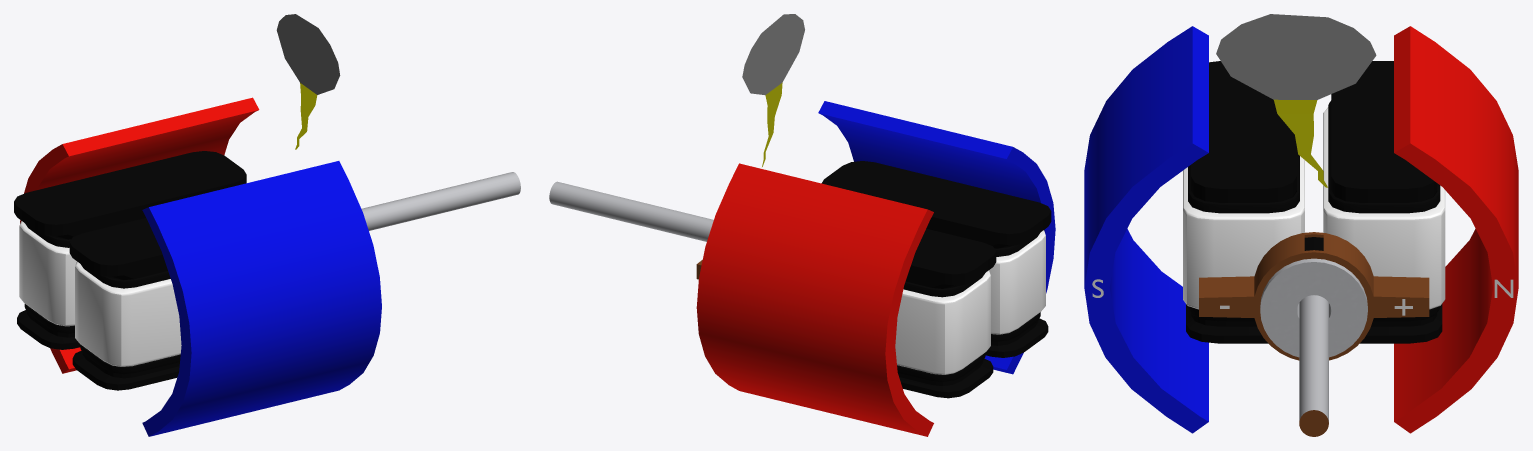
The model's file is brushMotor.glb.
3 renders of one model, left to right at view 1: azimuth 30°, elevation 25°; view 2: azimuth 150°, elevation 25°; view 3: azimuth 270°, elevation 25°, orthographic. The views are drawn at different scales.
Visible parts, largest first — view 1: Cube.027, Cube.028, Plane, Cylinder.025; view 2: Cube.027, Cube.028, Cylinder.025, Plane; view 3: Cube.027, Cube.028, Cylinder.025, Plane.
Part boxes in pixels (x1,y1,x2,y2): Cube.027: (20, 97, 381, 436); Cube.028: (14, 151, 246, 390); Plane: (276, 14, 340, 149); Cylinder.025: (361, 172, 520, 230); Cube.027: (696, 101, 1055, 436); Cube.028: (821, 161, 1051, 398); Cylinder.025: (549, 181, 713, 279); Plane: (742, 14, 804, 166); Cube.027: (1084, 26, 1518, 433); Cube.028: (1183, 61, 1445, 343); Cylinder.025: (1199, 232, 1429, 436); Plane: (1216, 14, 1376, 187).
Bounding box in the file's own units: 1.8 × 1.26 × 1.16.
8 materials, 1 textured.
